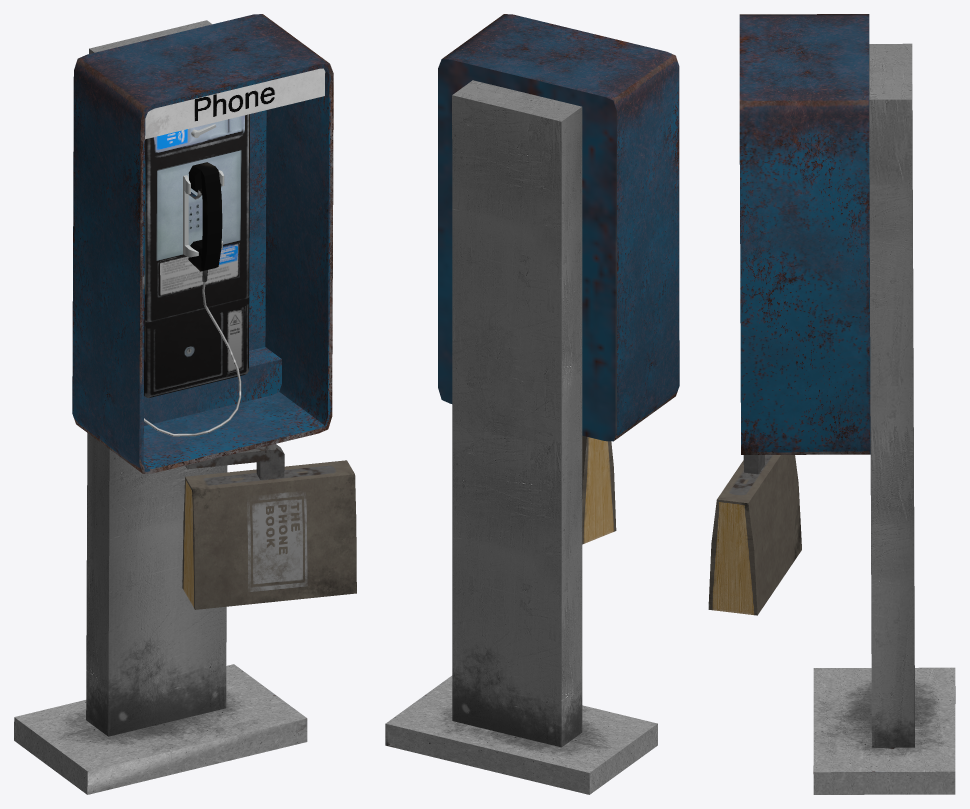
Rendered from street_phone.glb.
The picture shows the model from 3 angles, left to right: view 1: azimuth 30°, elevation 25°; view 2: azimuth 150°, elevation 25°; view 3: azimuth 270°, elevation 25°; orthographic projection. The views are drawn at different scales.
Visible parts, largest first — view 1: o_phone001; view 2: o_phone001; view 3: o_phone001.
Boxes of the visible parts, x1=… form: o_phone001: x1=14, y1=14, x2=356, y2=794; o_phone001: x1=385, y1=14, x2=679, y2=794; o_phone001: x1=708, y1=14, x2=955, y2=794.
Size of the model in its own units: 52.44 by 157 by 51.06.
Materials: 1 (1 with a texture image).
